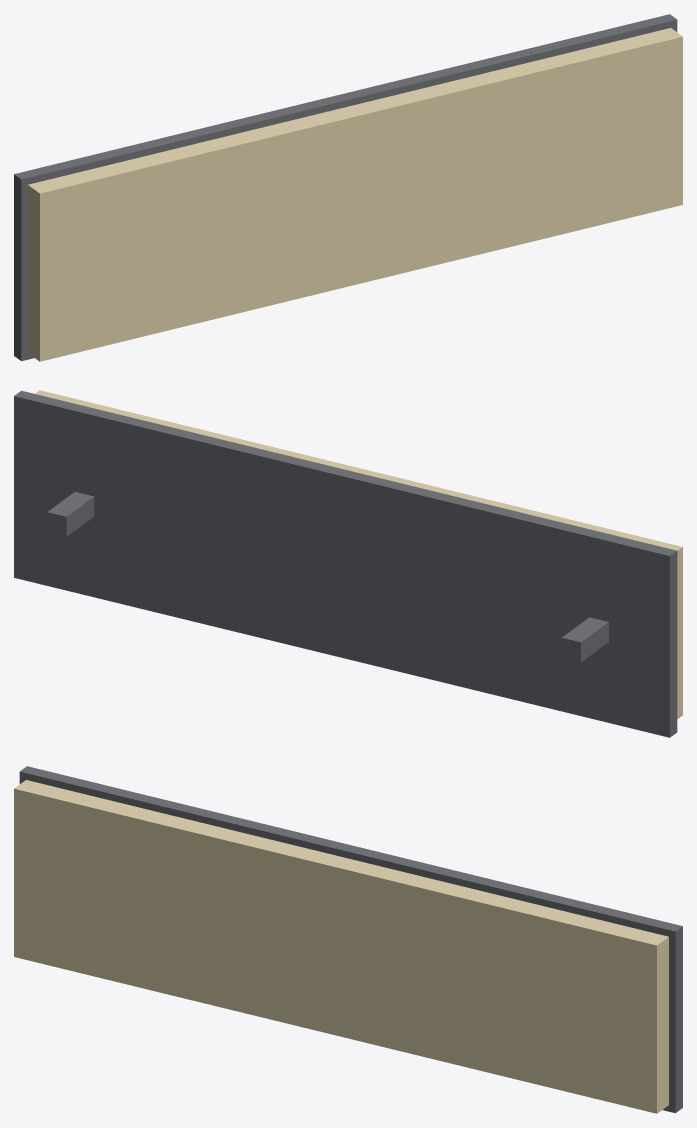
File: PRP_P1_Signboard_Horz_A.obj
3 renders of one model, top to bottom at view 1: azimuth 30°, elevation 25°; view 2: azimuth 150°, elevation 25°; view 3: azimuth 330°, elevation 25°, orthographic.
Visible parts, largest first — view 1: panel, frame; view 2: frame, panel, mount_l, mount_r; view 3: panel, frame.
Part boxes in pixels (<box>): panel: <box>28,28,682,361</box>; frame: <box>14,14,677,361</box>; frame: <box>14,390,677,737</box>; panel: <box>35,390,682,718</box>; mount_l: <box>561,617,608,662</box>; mount_r: <box>47,492,94,536</box>; panel: <box>14,780,668,1113</box>; frame: <box>19,766,682,1113</box>.
Bounding box in the file's own units: 2.04 × 0.54 × 0.255.
